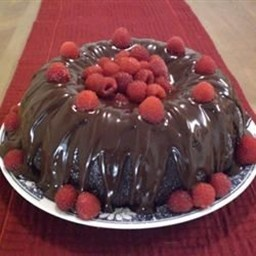background: (0, 10, 102, 87)
